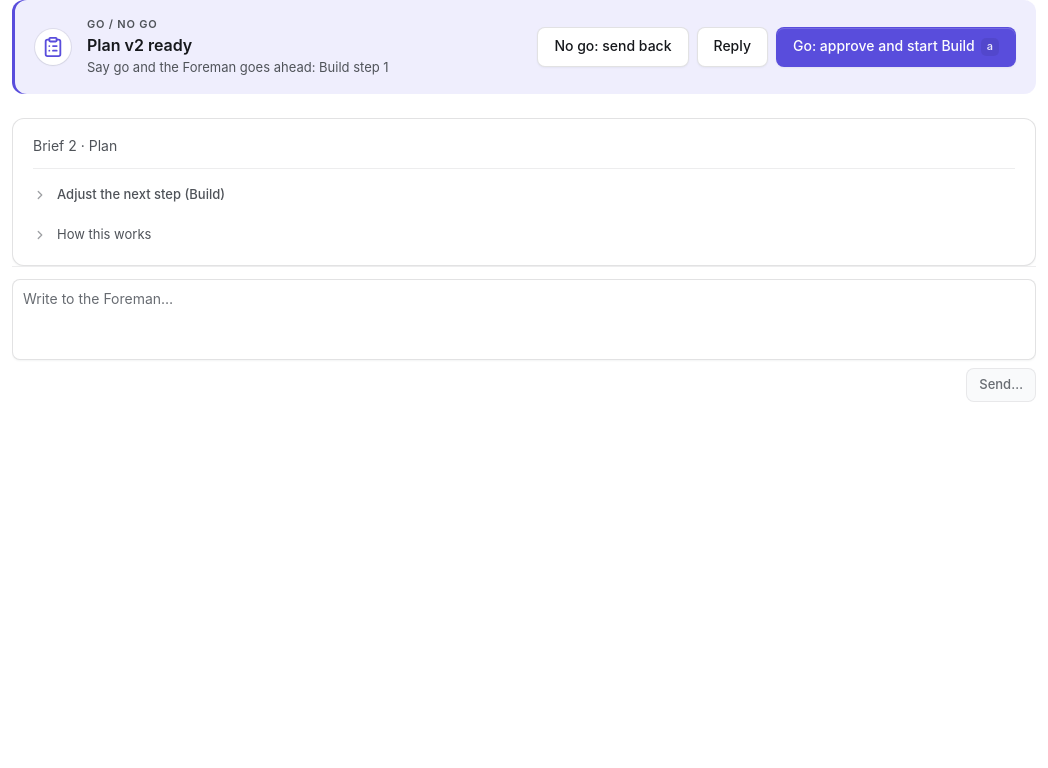
the go / no go bar › Send back pressed twice keeps the box open and its words
The width and height of the screenshot is (1048, 768).
Step 1. Click the button "No go: send back" → (613, 47), box [537, 27, 688, 67]
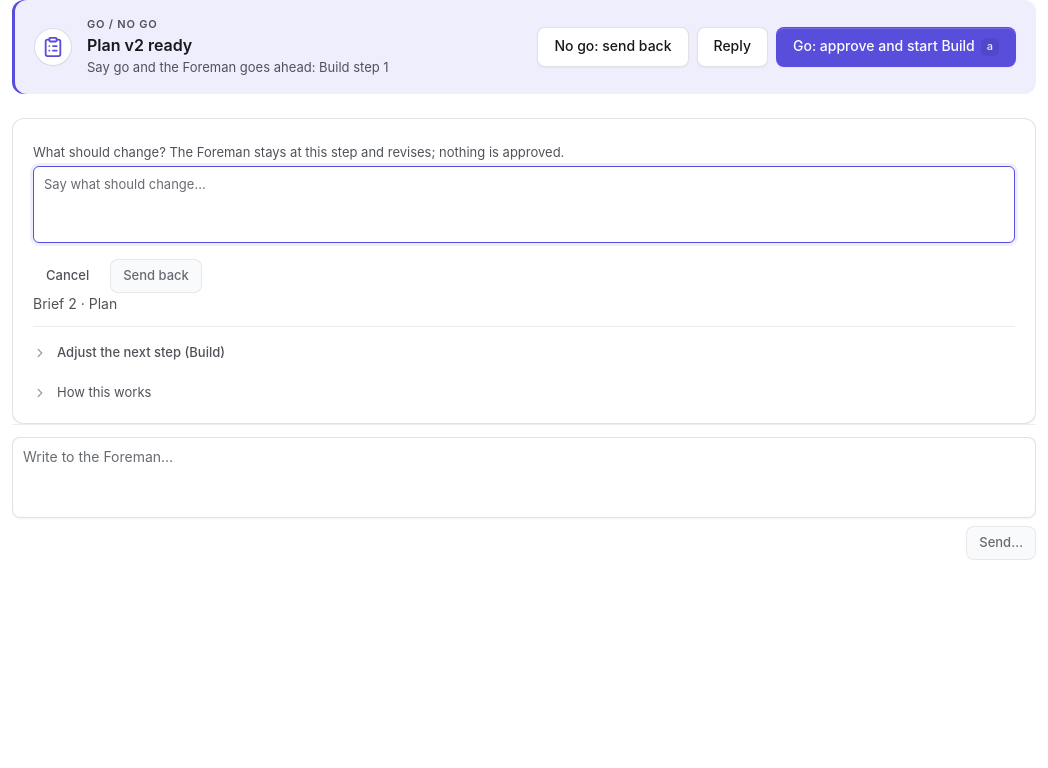
Step 2. Type "Use the small table." into the text box labelled "What should change?" → (524, 204), box [33, 166, 1015, 243]
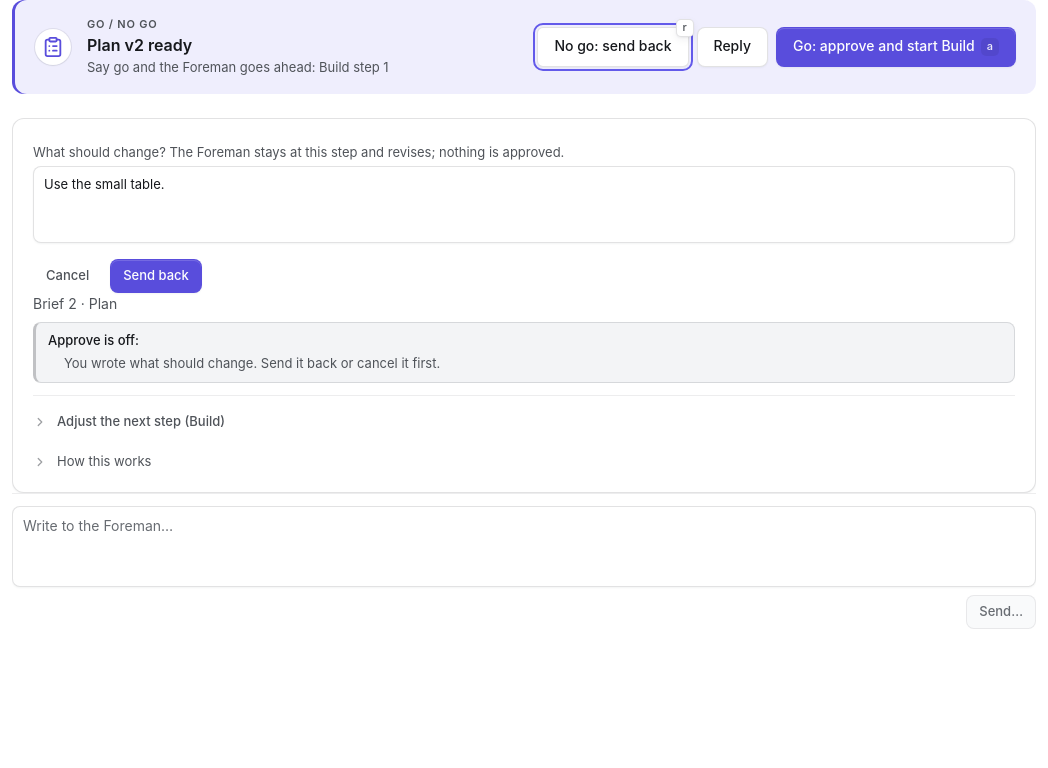
Step 3. Click the button "No go: send back r" → (613, 47), box [537, 27, 688, 67]
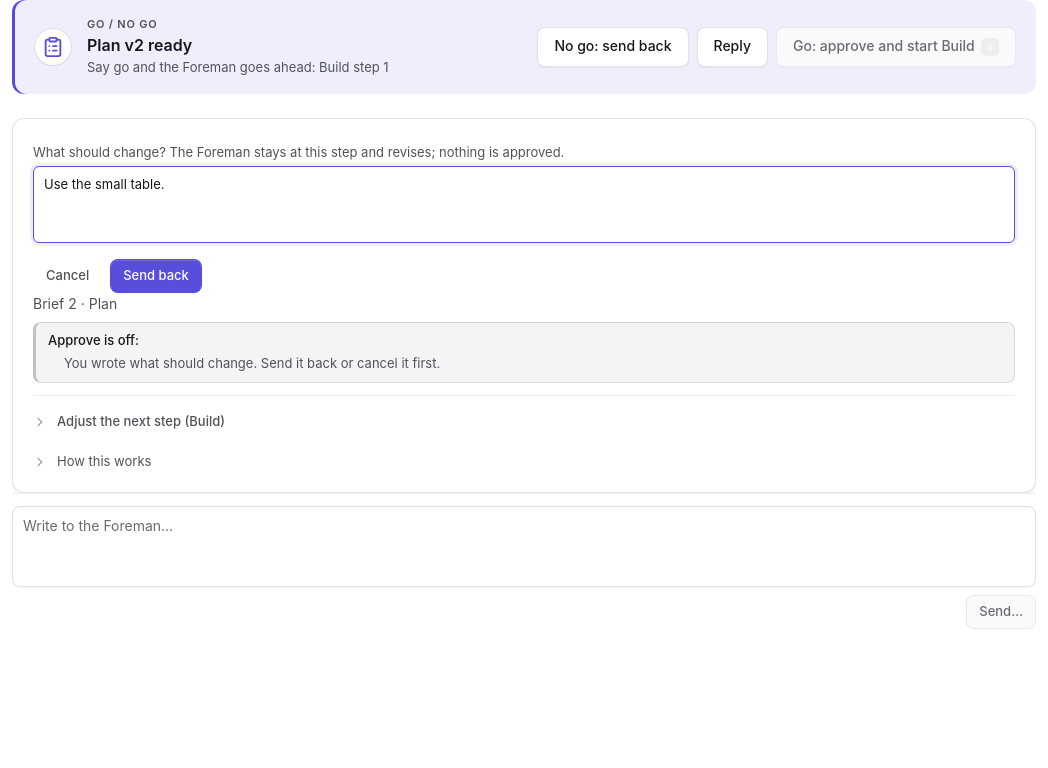
Expected: the button "Go: approve and start Build a" is disabled, [776, 27, 1016, 67]
